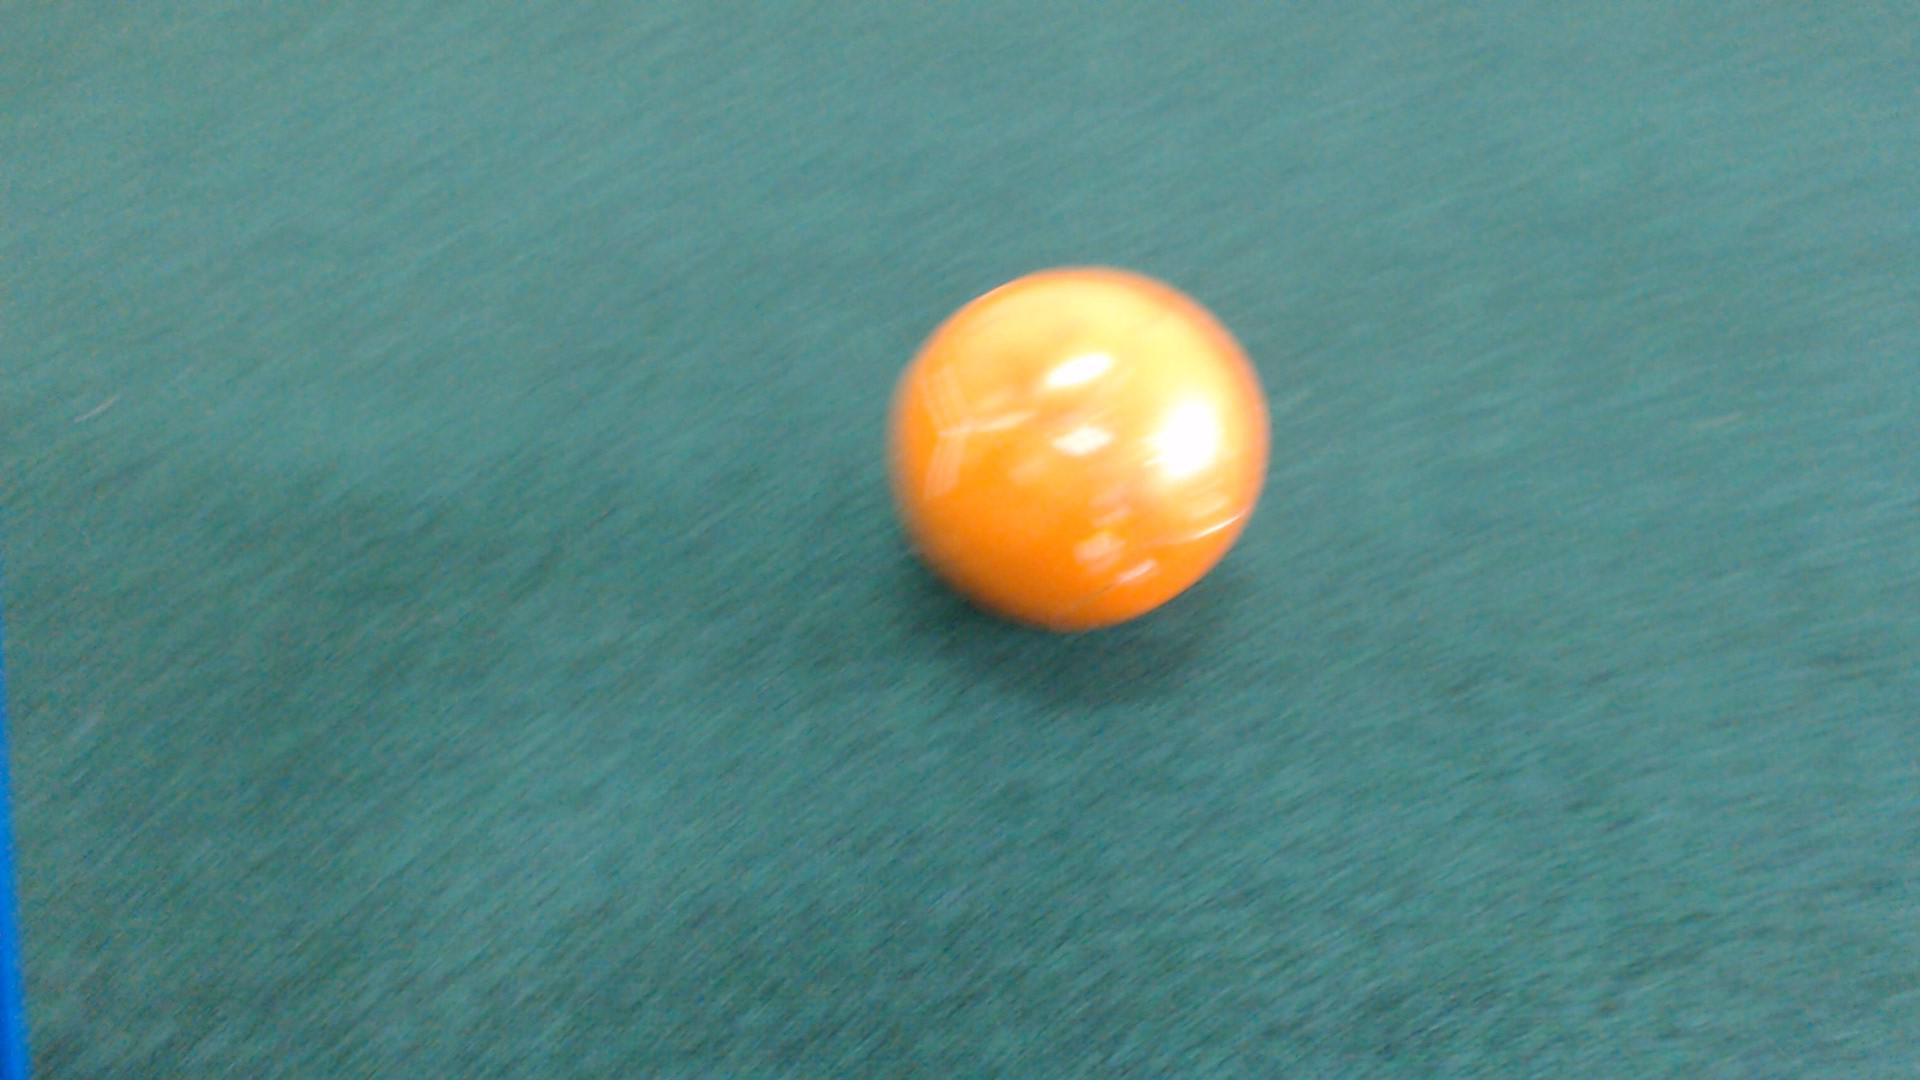bola: (855, 245, 1300, 670)
